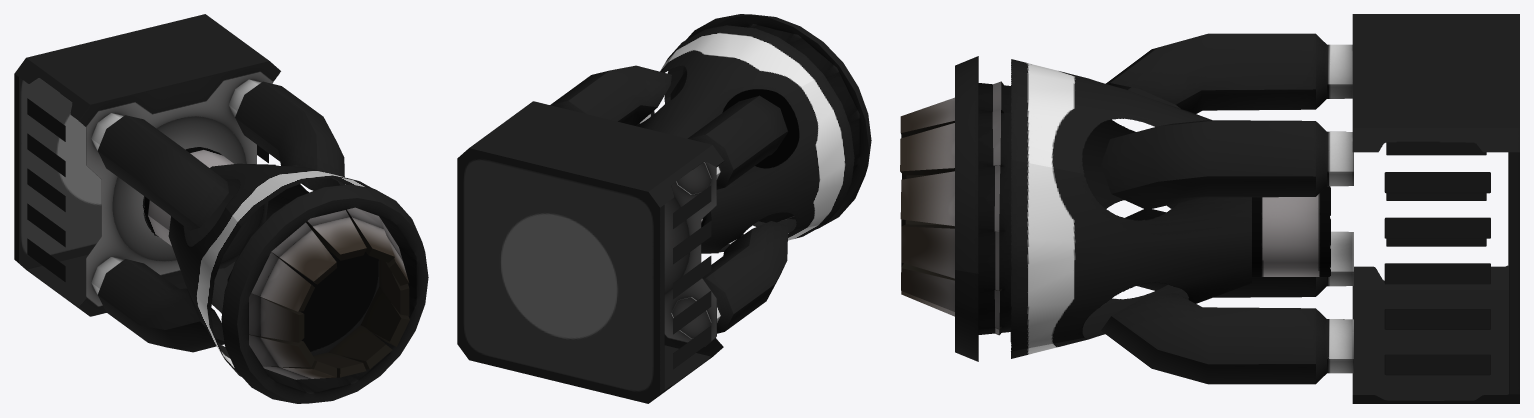
The model's file is obj_interactive_thruster_03_pose1.fbx.
3 renders of one model, left to right at view 1: azimuth 30°, elevation 25°; view 2: azimuth 150°, elevation 25°; view 3: azimuth 270°, elevation 25°, orthographic. The views are drawn at different scales.
Visible parts, largest first — view 1: obj_interactive_thruster_03_pose1; view 2: obj_interactive_thruster_03_pose1; view 3: obj_interactive_thruster_03_pose1.
Boxes of the visible parts, bbox=[...] form: obj_interactive_thruster_03_pose1: bbox=[14, 14, 428, 403]; obj_interactive_thruster_03_pose1: bbox=[457, 14, 871, 403]; obj_interactive_thruster_03_pose1: bbox=[900, 14, 1519, 403].
Size of the model in its own units: 2.04 by 2.04 by 4.07.
